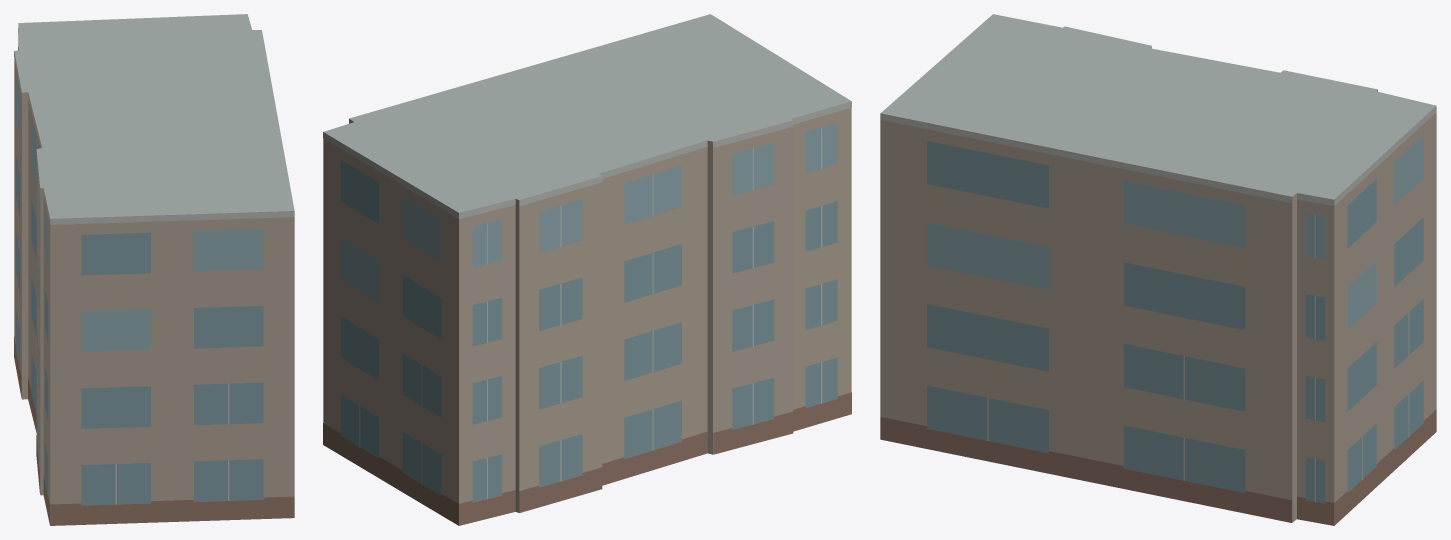
Rendered from survey-upis-32826972.glb.
The picture shows the model from 3 angles, left to right: view 1: azimuth 30°, elevation 25°; view 2: azimuth 150°, elevation 25°; view 3: azimuth 270°, elevation 25°; orthographic projection. The views are drawn at different scales.
Parts seen in each view (by area): view 1: survey-upis-32826972.tmp; view 2: survey-upis-32826972.tmp; view 3: survey-upis-32826972.tmp.
Part boxes in pixels (x1,y1,x2,y2): survey-upis-32826972.tmp: (14, 14, 294, 525); survey-upis-32826972.tmp: (323, 14, 851, 525); survey-upis-32826972.tmp: (880, 14, 1436, 525).
Bounding box in the file's own units: 14.9 × 12.2 × 18.86.
